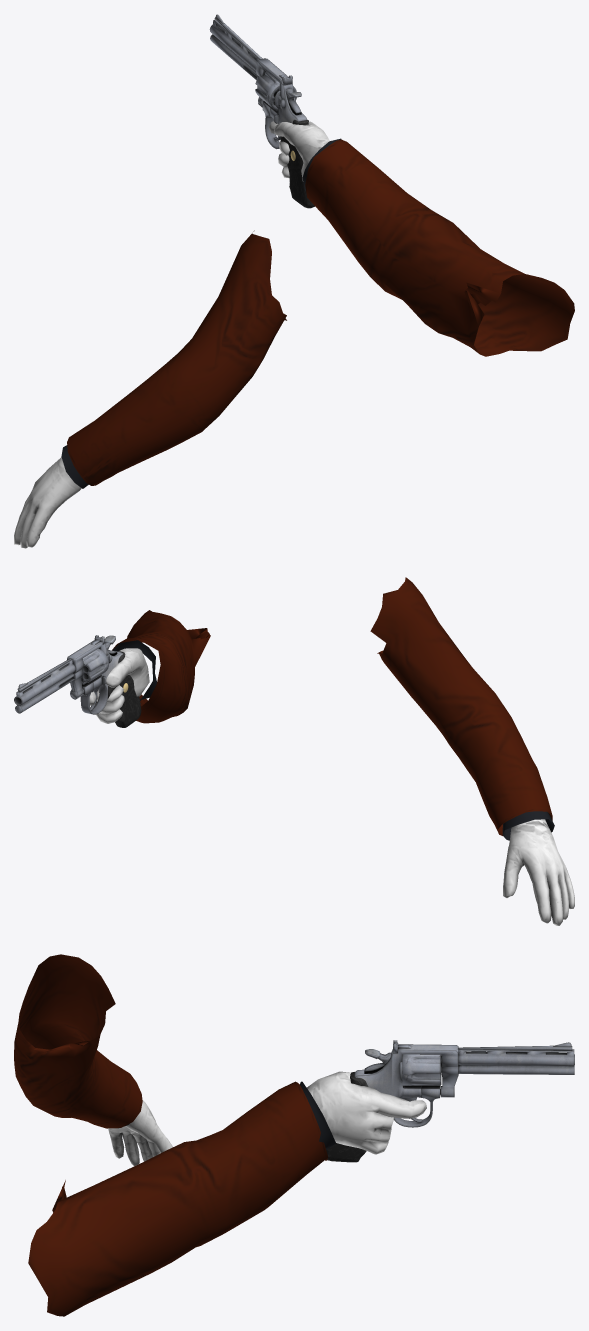
The model's file is frame_10.obj.
3 views of the same model, one above another, from view 1: azimuth 30°, elevation 25°; view 2: azimuth 150°, elevation 25°; view 3: azimuth 270°, elevation 25° (orthographic). The views are drawn at different scales.
Parts seen in each view (by area): view 1: PlayerModelMerged.001_PlayerModelMerged, Plane.008_meshId0_name; view 2: PlayerModelMerged.001_PlayerModelMerged, Plane.008_meshId0_name, Plane.001_meshId0_name.001; view 3: PlayerModelMerged.001_PlayerModelMerged, Plane.008_meshId0_name, Plane.001_meshId0_name.001.
Part boxes in pixels (<box>): PlayerModelMerged.001_PlayerModelMerged: <box>14,121,574,548</box>; Plane.008_meshId0_name: <box>209,14,314,208</box>; PlayerModelMerged.001_PlayerModelMerged: <box>89,577,574,925</box>; Plane.008_meshId0_name: <box>14,635,141,727</box>; Plane.001_meshId0_name.001: <box>81,648,108,684</box>; PlayerModelMerged.001_PlayerModelMerged: <box>14,954,426,1316</box>; Plane.008_meshId0_name: <box>326,1040,574,1162</box>; Plane.001_meshId0_name.001: <box>402,1054,441,1085</box>.
Size of the model in its own units: 1.15 by 0.6442 by 0.9735.
